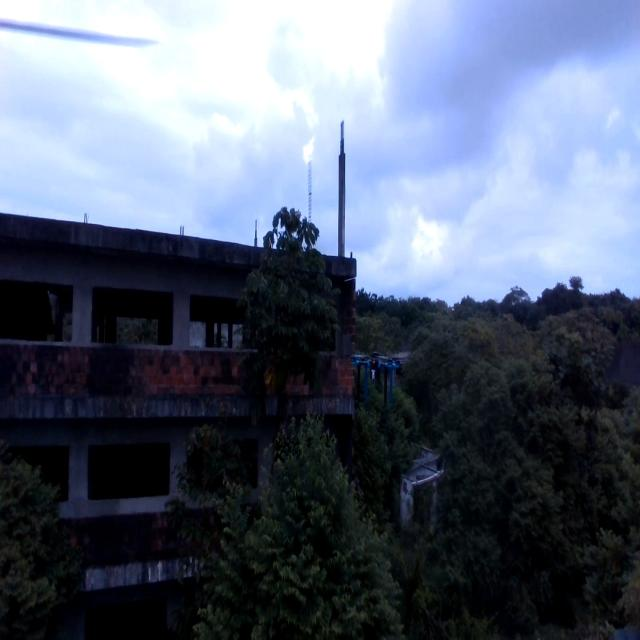-uav-: (344, 329, 414, 431)
